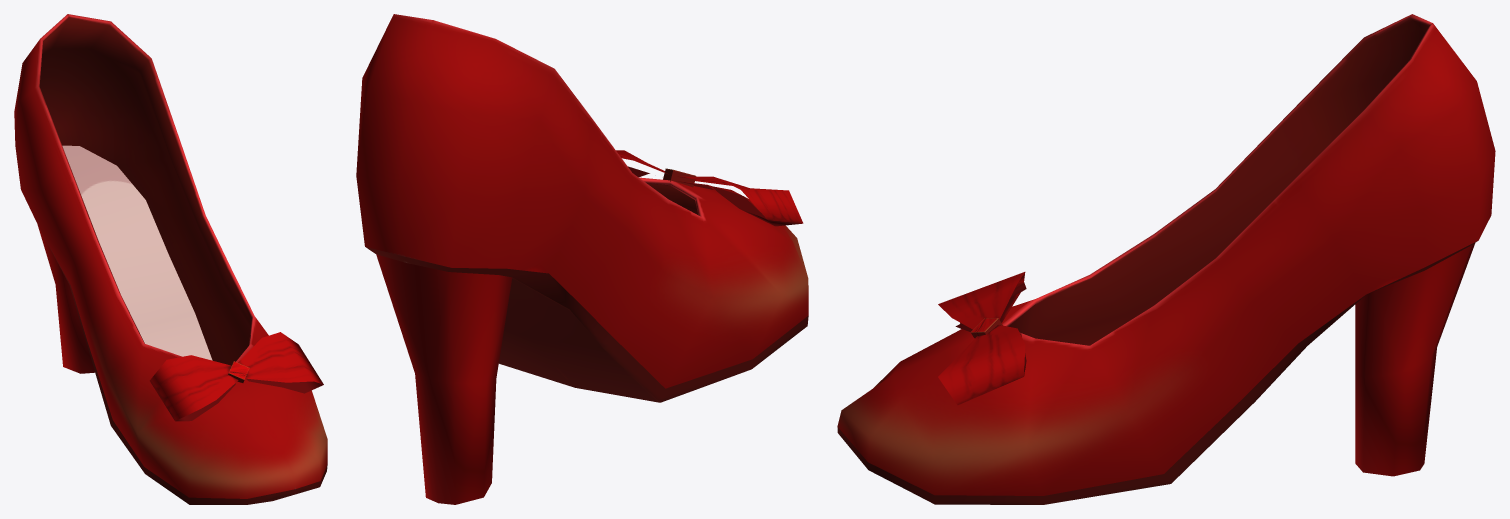
Rendered from RedShoes.fbx.
3 views of the same model, side by side, from view 1: azimuth 30°, elevation 25°; view 2: azimuth 150°, elevation 25°; view 3: azimuth 270°, elevation 25° (orthographic). The views are drawn at different scales.
Visible parts, largest first — view 1: RedShoes_Body, RedShoes_bottom, Plane075; view 2: RedShoes_Body, Plane075; view 3: RedShoes_Body, Plane075.
Boxes of the visible parts, <box> form: RedShoes_Body: <box>14,14,327,504</box>; RedShoes_bottom: <box>62,145,212,360</box>; Plane075: <box>149,332,323,421</box>; RedShoes_Body: <box>356,14,808,504</box>; Plane075: <box>616,150,803,226</box>; RedShoes_Body: <box>837,14,1495,504</box>; Plane075: <box>938,272,1026,405</box>.
Bounding box in the file's own units: 11.49 × 21.49 × 29.08.
Materials: 1 (1 with a texture image).
